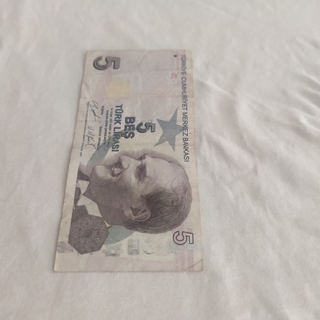5TLFront: (52, 48, 203, 273)
